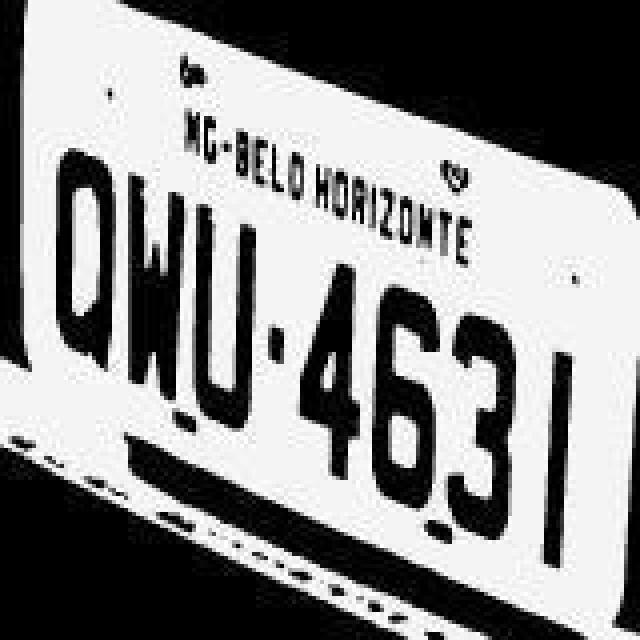1: (526, 316, 578, 580)
3: (438, 284, 522, 548)
4: (292, 238, 364, 514)
6: (368, 272, 448, 536)
Q: (46, 140, 122, 388)
U: (188, 188, 260, 452)
W: (122, 150, 190, 410)
